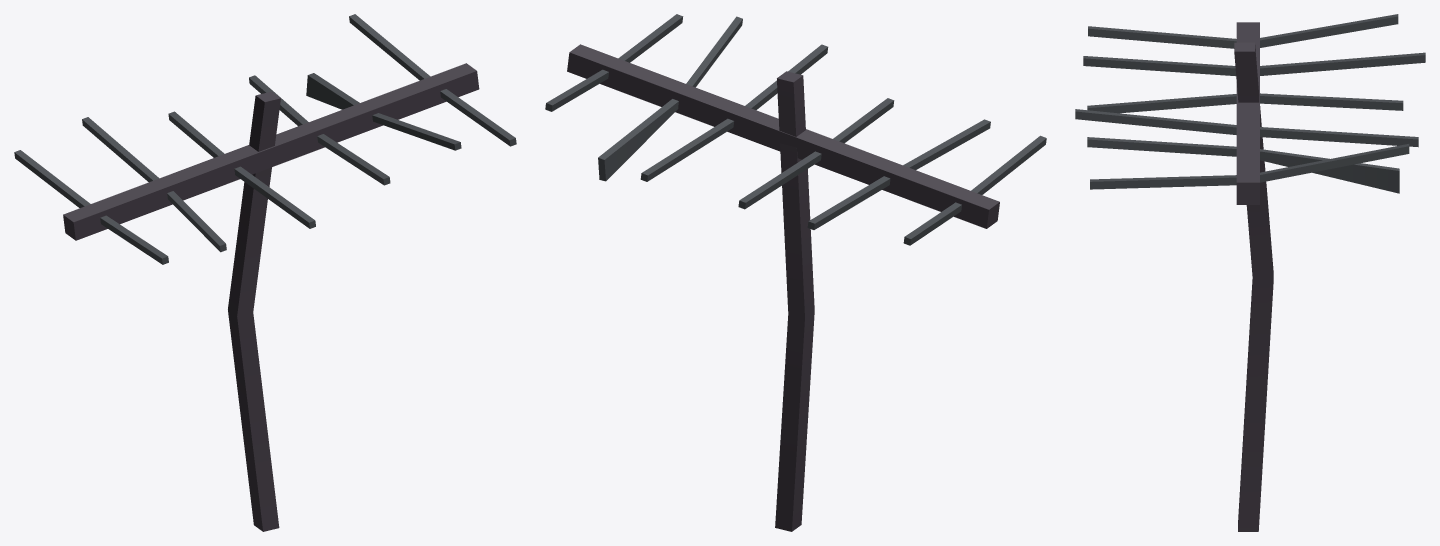
The model's file is Antena_A1.fbx.
The picture shows the model from 3 angles, left to right: view 1: azimuth 30°, elevation 25°; view 2: azimuth 150°, elevation 25°; view 3: azimuth 270°, elevation 25°; orthographic projection. The views are drawn at different scales.
Parts seen in each view (by area): view 1: Antena_A1; view 2: Antena_A1; view 3: Antena_A1.
Part boxes in pixels (bbox=[...]): Antena_A1: bbox=[14, 14, 516, 531]; Antena_A1: bbox=[545, 14, 1046, 531]; Antena_A1: bbox=[1075, 14, 1425, 531].
Bounding box in the file's own units: 375 × 380 × 252.
